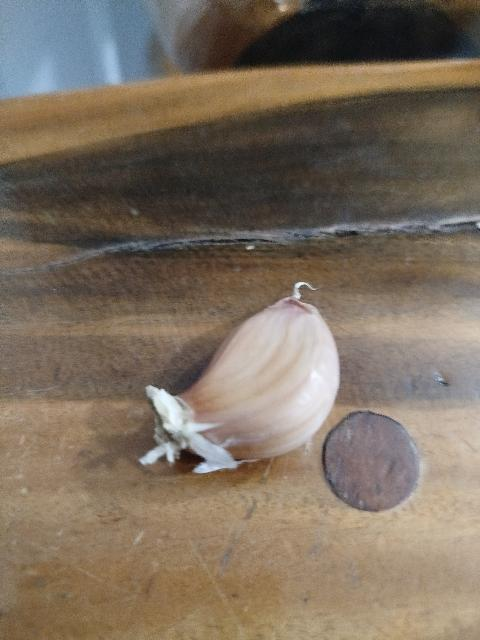garlic: (138, 281, 340, 474)
